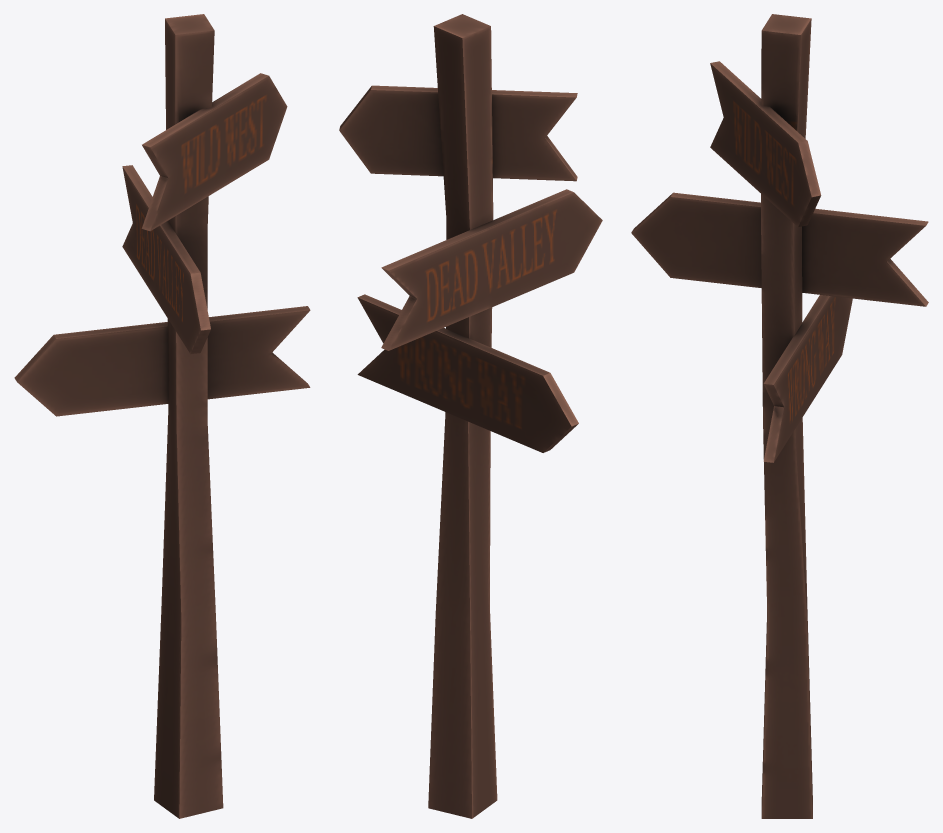
Rendered from Sign_3.fbx.
3 renders of one model, left to right at view 1: azimuth 30°, elevation 25°; view 2: azimuth 150°, elevation 25°; view 3: azimuth 270°, elevation 25°, orthographic.
Parts seen in each view (by area): view 1: Sign_3; view 2: Sign_3; view 3: Sign_3.
Part boxes in pixels (box(x1,y1,x2,y2)): Sign_3: box(14, 14, 310, 818); Sign_3: box(339, 14, 602, 818); Sign_3: box(631, 14, 928, 818).
Size of the model in its own units: 29.51 by 29.51 by 85.73.
Materials: 1 (1 with a texture image).
